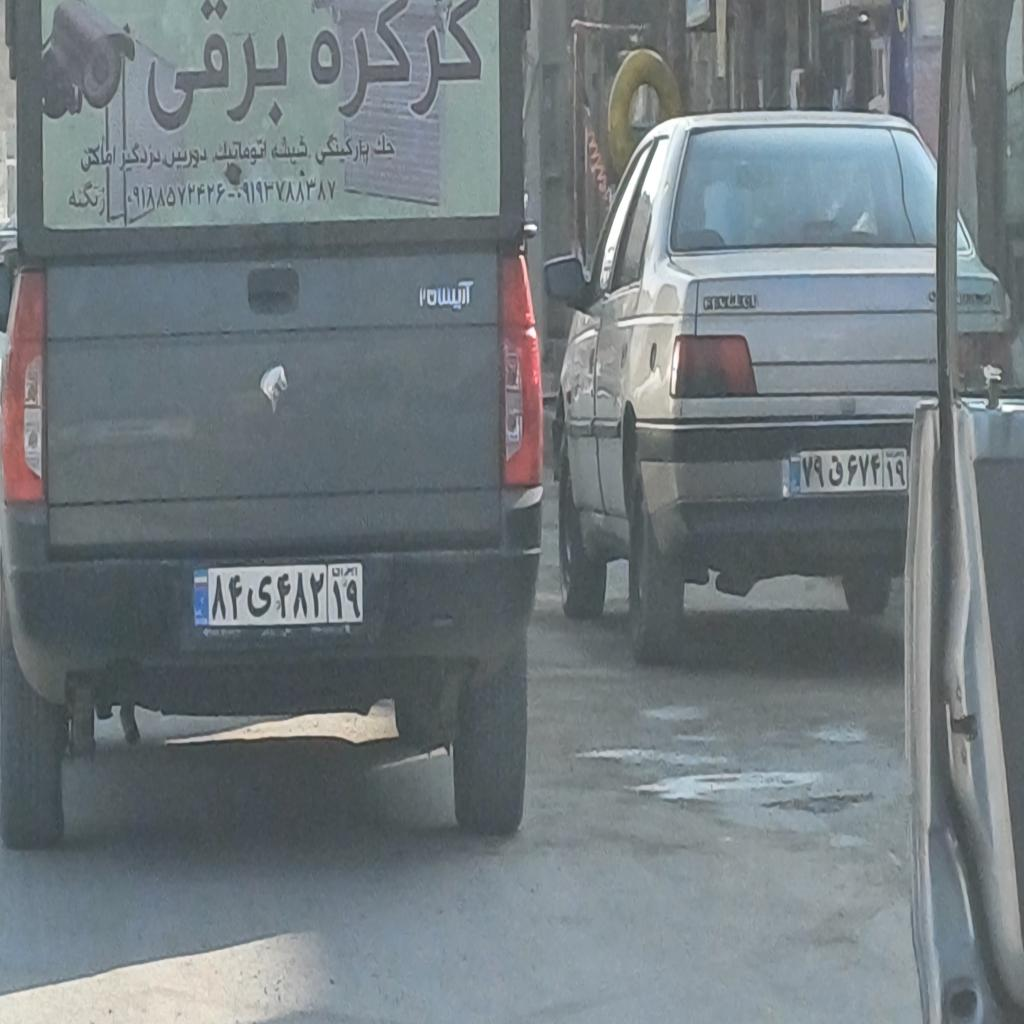Plates: (192, 565, 365, 628), (789, 444, 907, 495)
